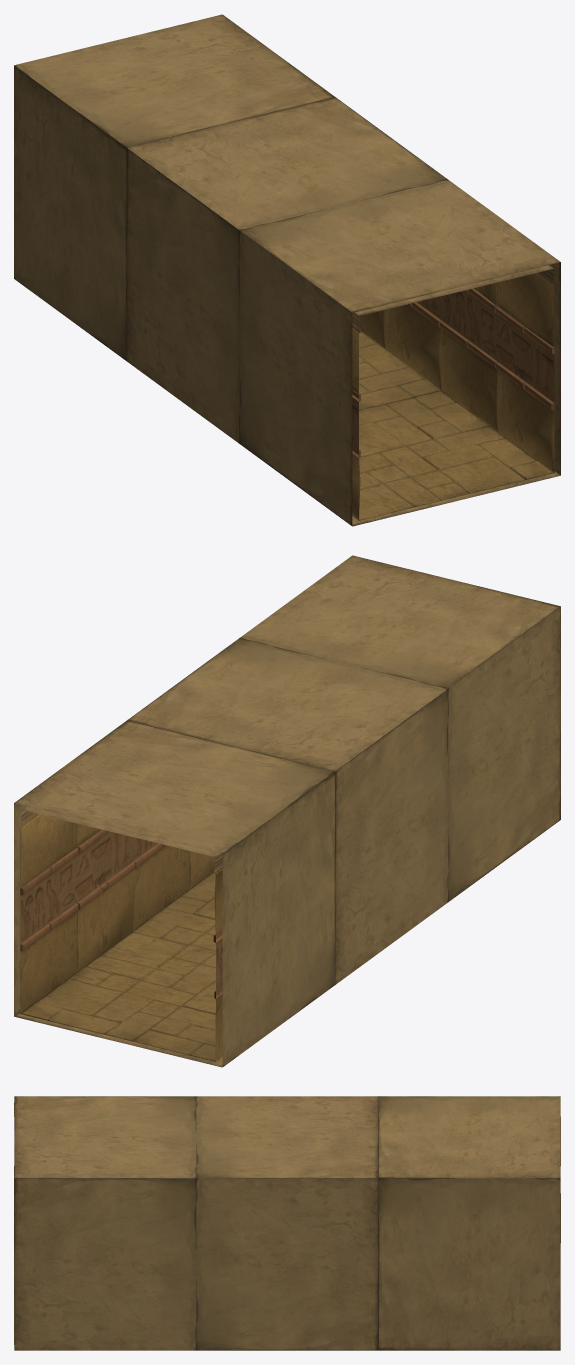
File: m_Straight01.FBX
3 renders of one model, top to bottom at view 1: azimuth 30°, elevation 25°; view 2: azimuth 150°, elevation 25°; view 3: azimuth 270°, elevation 25°, orthographic. The views are drawn at different scales.
Parts seen in each view (by area): view 1: m_Straight01; view 2: m_Straight01; view 3: m_Straight01.
Part boxes in pixels (bbox=[...]): m_Straight01: bbox=[14, 14, 560, 526]; m_Straight01: bbox=[14, 555, 560, 1067]; m_Straight01: bbox=[14, 1096, 560, 1350].
Bounding box in the file's own units: 107 × 300 × 104.
Materials: 1 (1 with a texture image).
